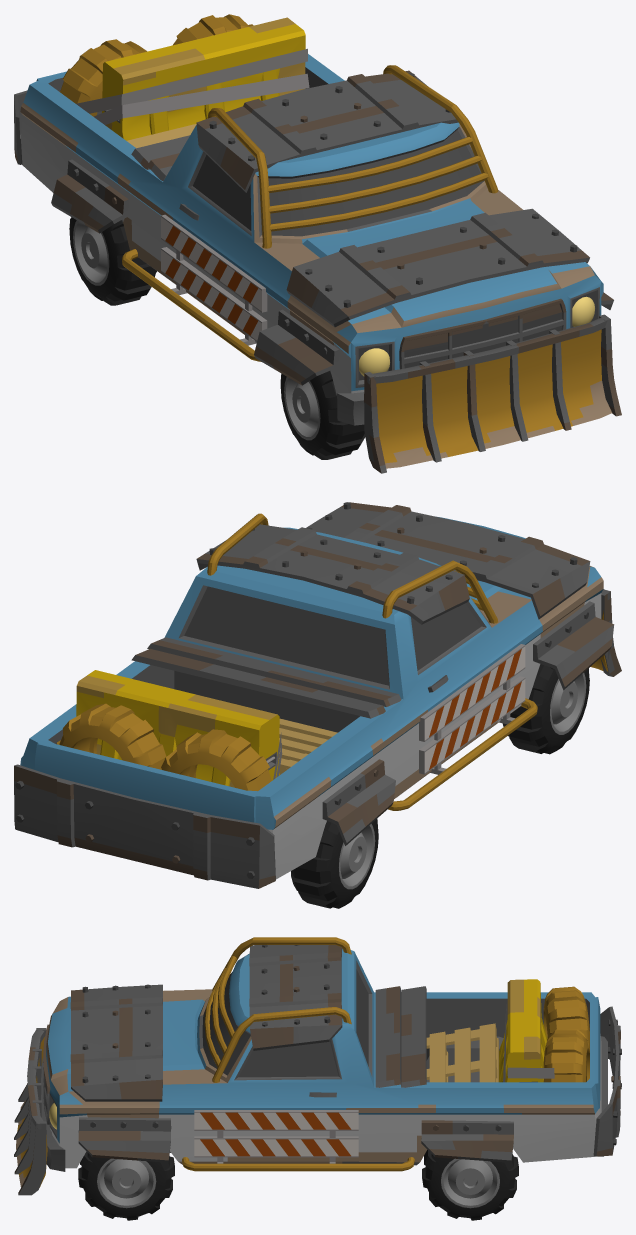
The model's file is Enemy_Truck.glb.
3 views of the same model, one above another, from view 1: azimuth 30°, elevation 25°; view 2: azimuth 150°, elevation 25°; view 3: azimuth 270°, elevation 25° (orthographic). The views are drawn at different scales.
Parts seen in each view (by area): view 1: Pickup_Armored, FrontWheel_R, BackWheels; view 2: Pickup_Armored, BackWheels, FrontWheel_R; view 3: Pickup_Armored, BackWheels, FrontWheel_L.
Boxes of the visible parts, x1,y1,x2,y2 form: Pickup_Armored: [14, 14, 621, 473]; FrontWheel_R: [280, 371, 365, 459]; BackWheels: [69, 217, 156, 305]; Pickup_Armored: [14, 502, 621, 888]; BackWheels: [291, 819, 378, 908]; FrontWheel_R: [502, 664, 589, 754]; Pickup_Armored: [14, 937, 621, 1195]; BackWheels: [422, 1150, 518, 1220]; FrontWheel_L: [78, 1151, 174, 1220].
Size of the model in its own units: 2.65 by 2 by 5.51.
Materials: 2 (1 with a texture image).
